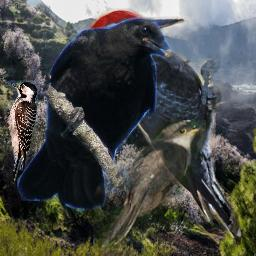Crow: (17, 17, 175, 212)
Cuckoo: (93, 120, 206, 252)
Woodpecker: (87, 8, 241, 245), (4, 79, 39, 186)
